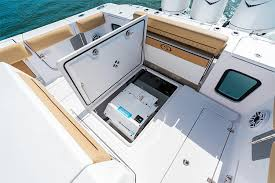boat: (1, 1, 275, 183)
